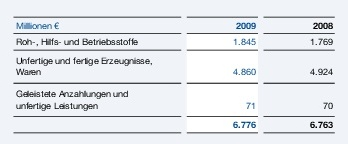table: (0, 0, 348, 144)
